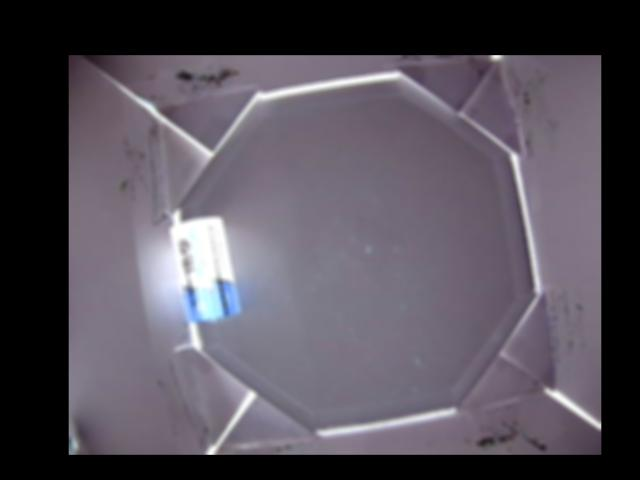Battery: (170, 215, 240, 325)
